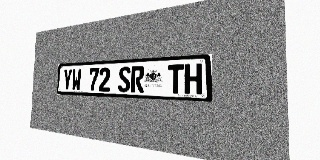2: (99, 67, 110, 92)
7: (88, 68, 99, 91)
H: (184, 63, 202, 94)
R: (131, 66, 144, 93)
S: (118, 66, 131, 92)
T: (168, 64, 184, 94)
W: (71, 68, 81, 91)
Y: (63, 69, 72, 90)
